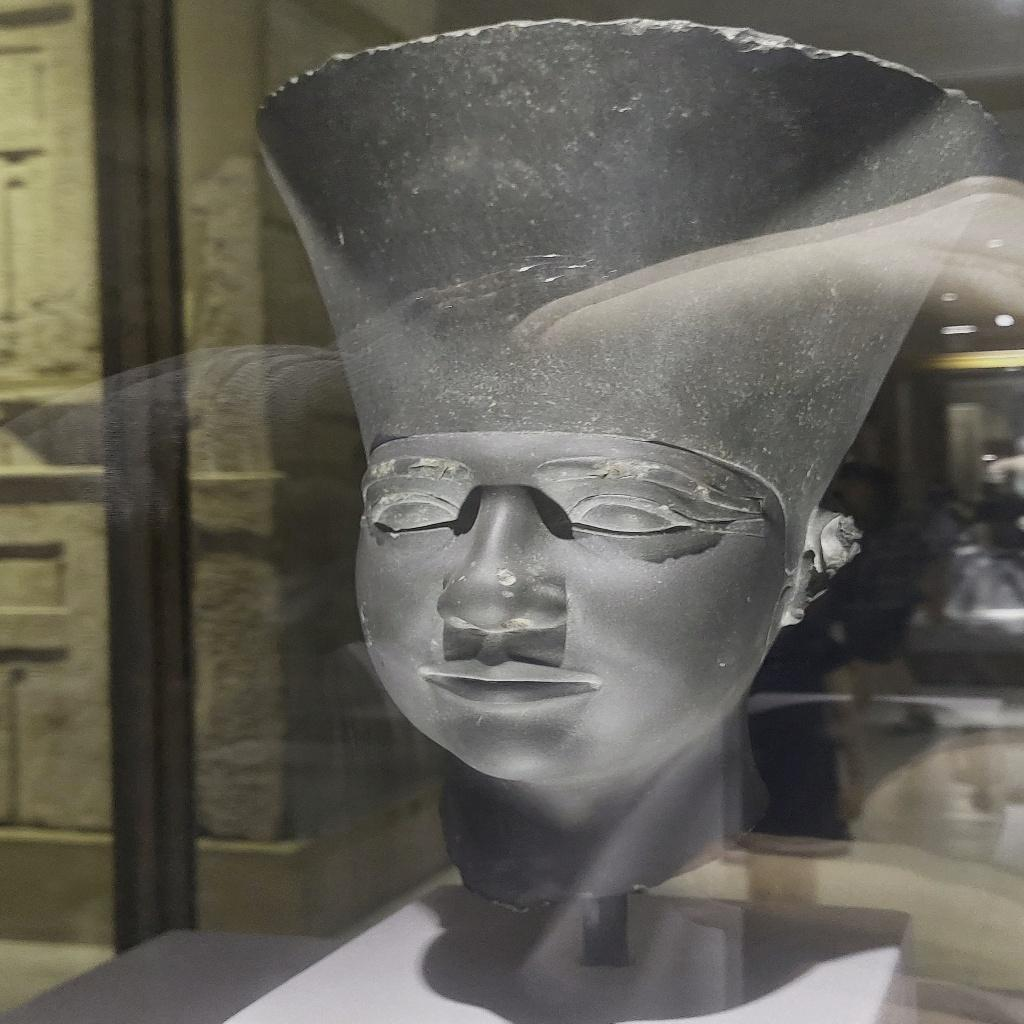Head of Userkaf: (248, 22, 1010, 904)
